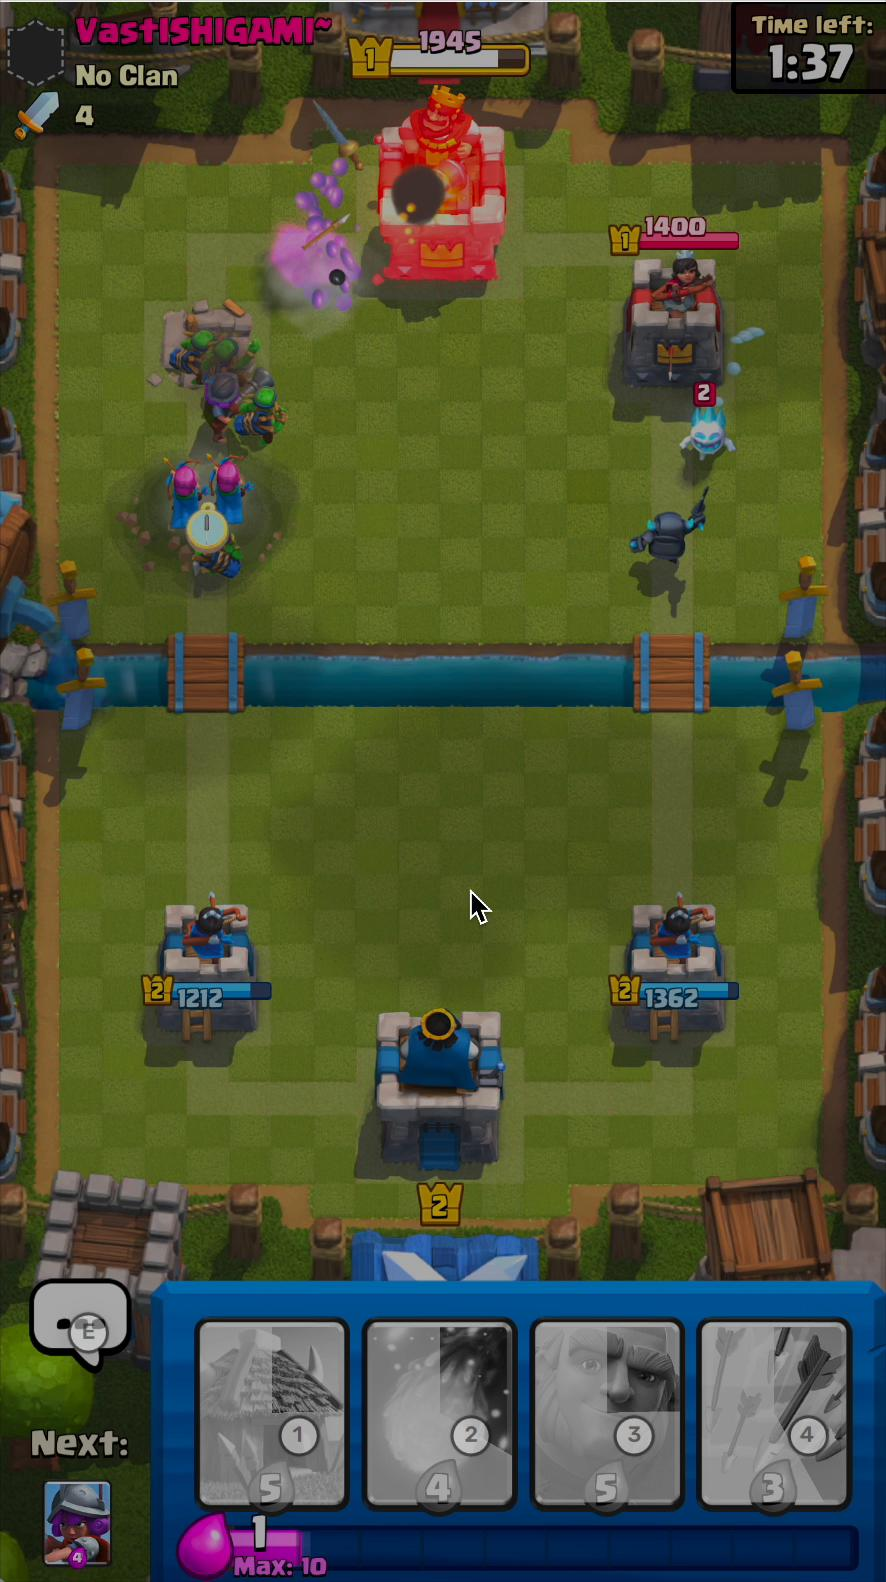archere: (201, 447, 260, 541), (165, 454, 200, 537)
gobelin_lances: (234, 381, 283, 444), (177, 533, 245, 579), (208, 334, 262, 387), (163, 329, 216, 380)
mini_PEKKA: (622, 498, 723, 580)
mousquetaire: (197, 363, 238, 443)
